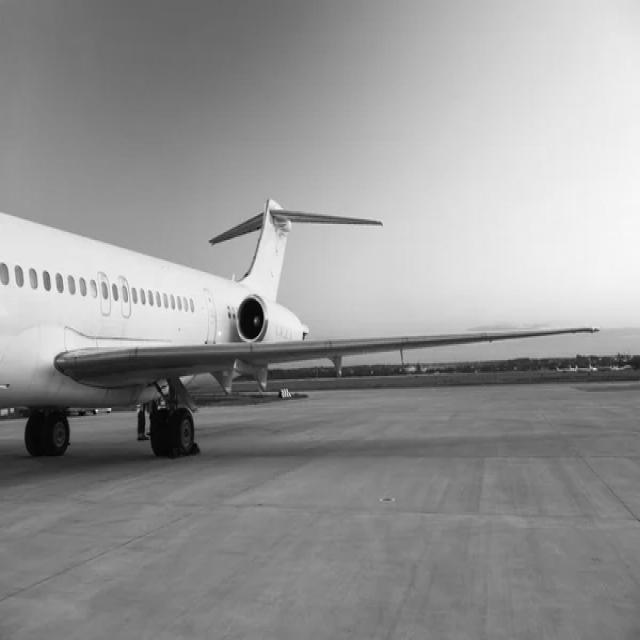Aircraft: (0, 155, 403, 486)
